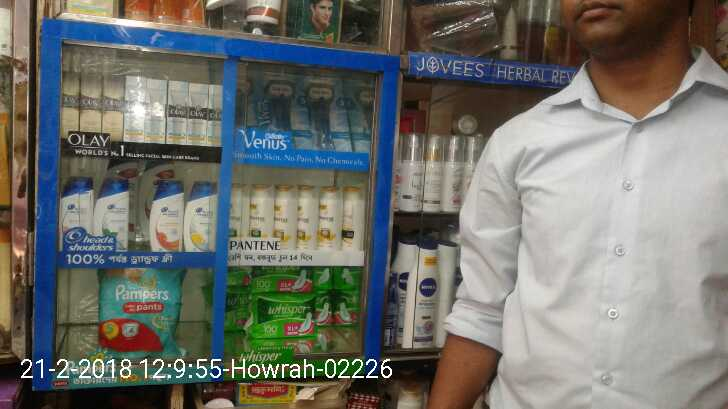venus: (262, 79, 307, 147), (307, 79, 349, 150), (237, 75, 263, 147)
